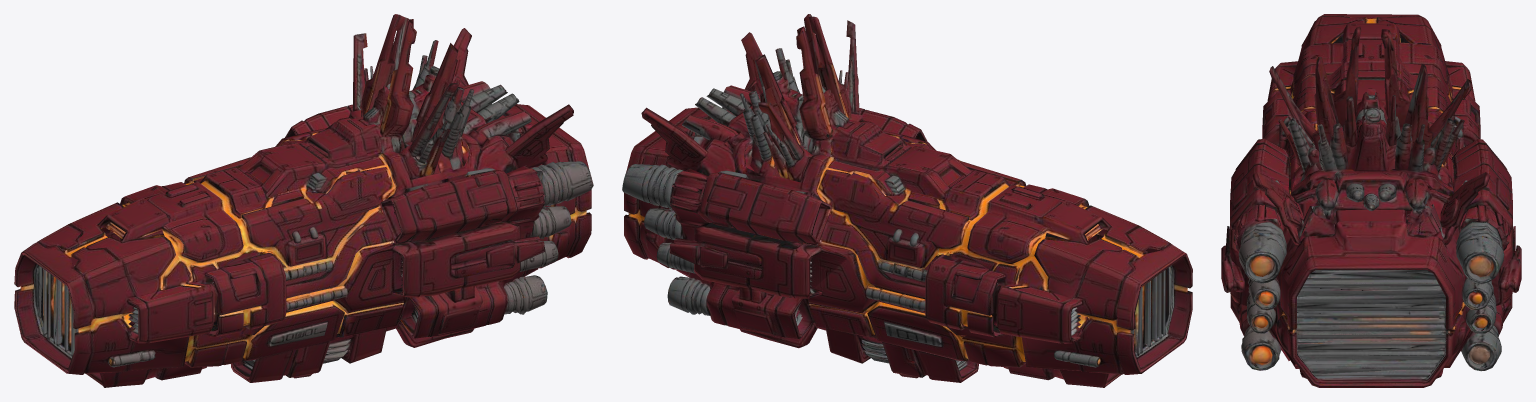
The model's file is ember.glb.
The picture shows the model from 3 angles, left to right: view 1: azimuth 30°, elevation 25°; view 2: azimuth 150°, elevation 25°; view 3: azimuth 270°, elevation 25°; orthographic projection. The views are drawn at different scales.
Size of the model in its own units: 0.9551 by 0.5688 by 0.4438.
Materials: 1 (1 with a texture image).
